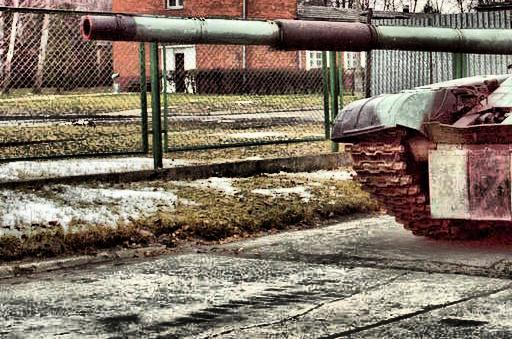tanks: (335, 74, 512, 236), (85, 16, 512, 54)
